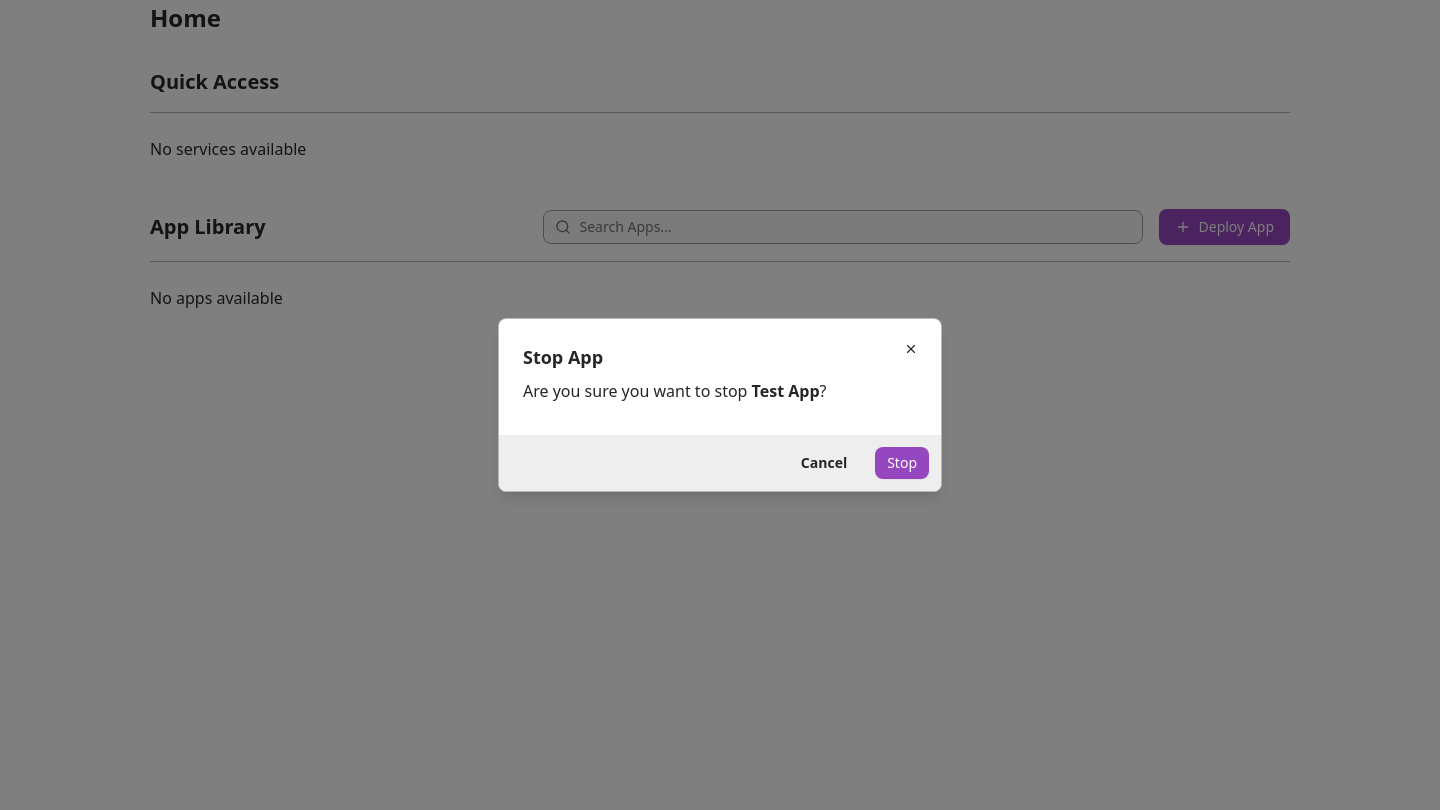
Test: Home › should show 403 error snackbar when trying to stop a shared app
Expected: the dialog with test id "StopModal" is shown, [498,318,942,492]
Click the button with id "stop-btn". click: point(902, 463)
box: [875,447,929,479]
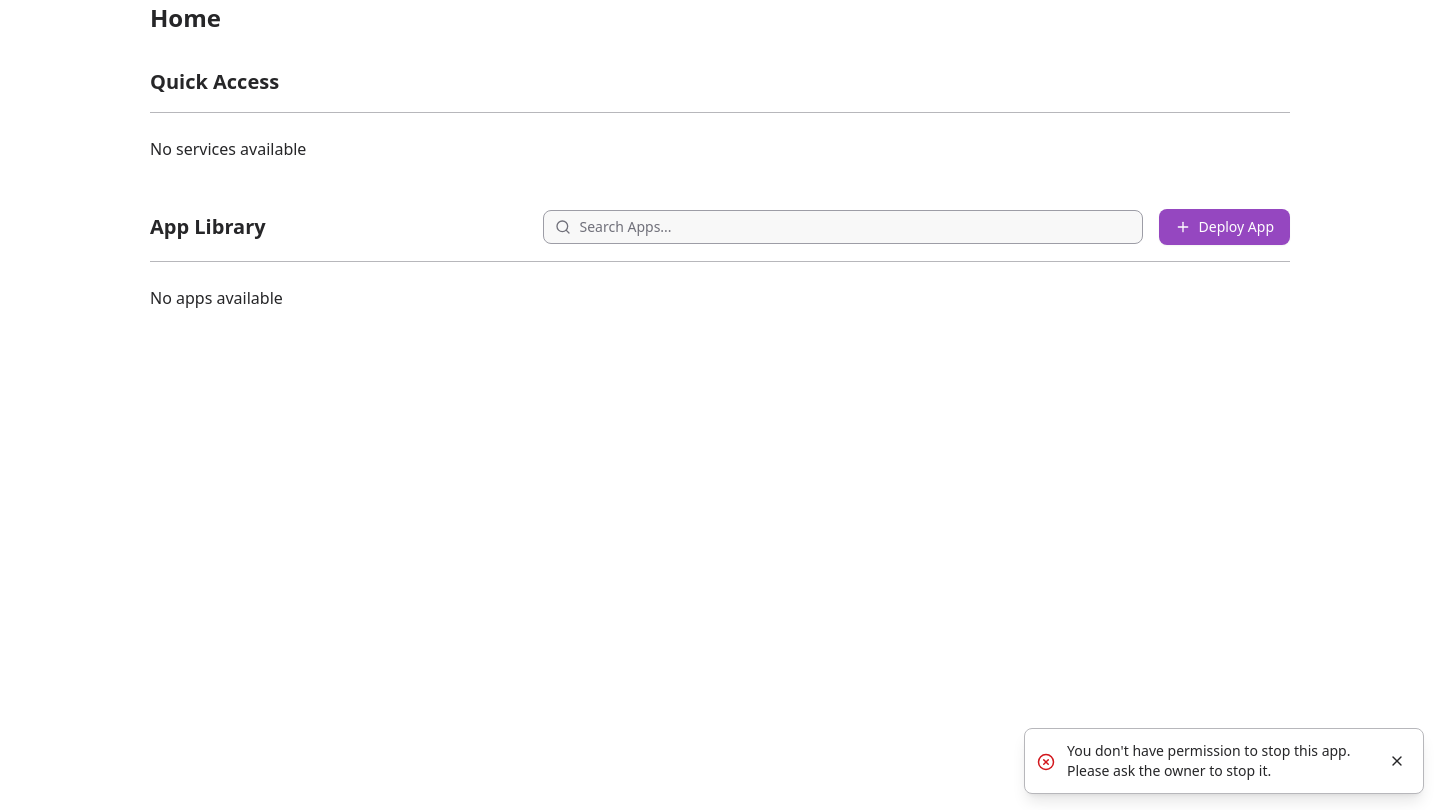
Expected: the heading "You don't have permission to stop this app. Please ask the owner" is shown, [1067,741,1350,780]
